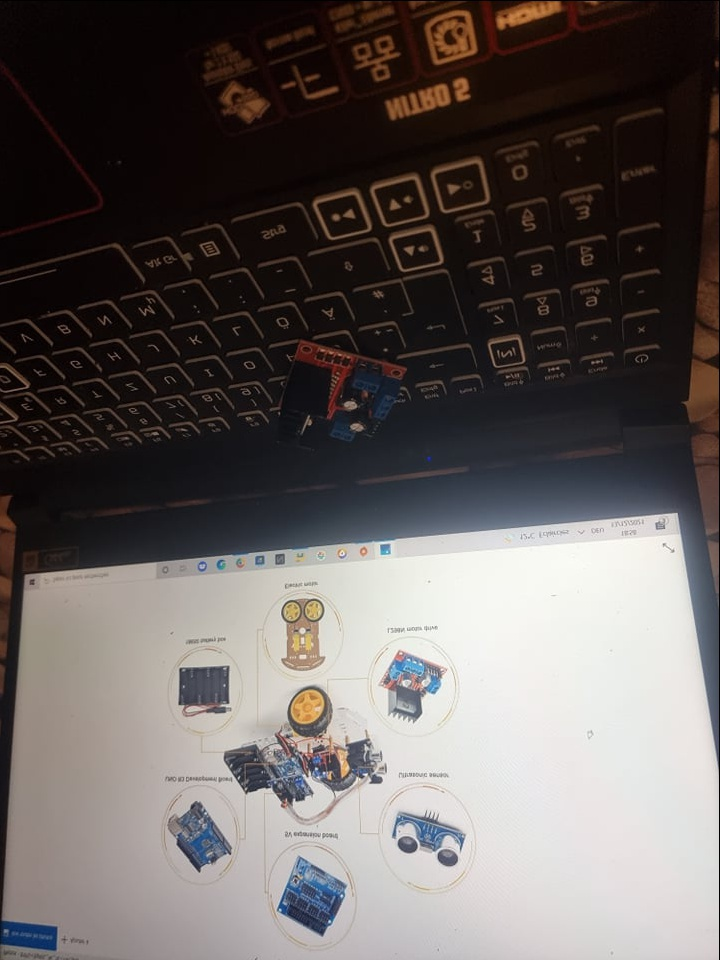5V EXPANSION: (275, 854, 352, 938), (268, 775, 314, 807)
BATTERY BOX: (223, 744, 267, 796), (177, 665, 229, 705)
MOTOR: (275, 336, 406, 456), (380, 647, 447, 722), (310, 752, 342, 783)
SENSOR: (393, 814, 467, 868), (370, 744, 391, 778)
UNO R3: (167, 799, 232, 871), (263, 746, 307, 776)
